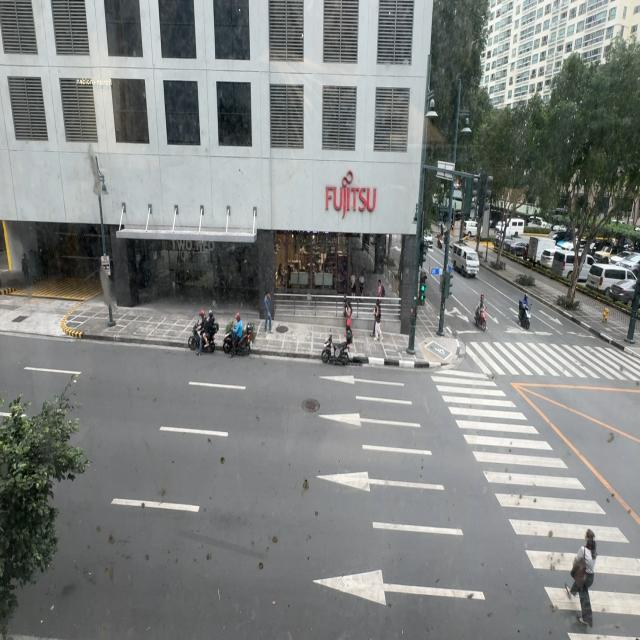crossing: (568, 529, 596, 627)
pedestrain: (371, 300, 383, 341), (264, 292, 272, 334), (358, 271, 365, 295), (344, 303, 352, 323), (350, 272, 356, 296), (377, 280, 382, 298)
